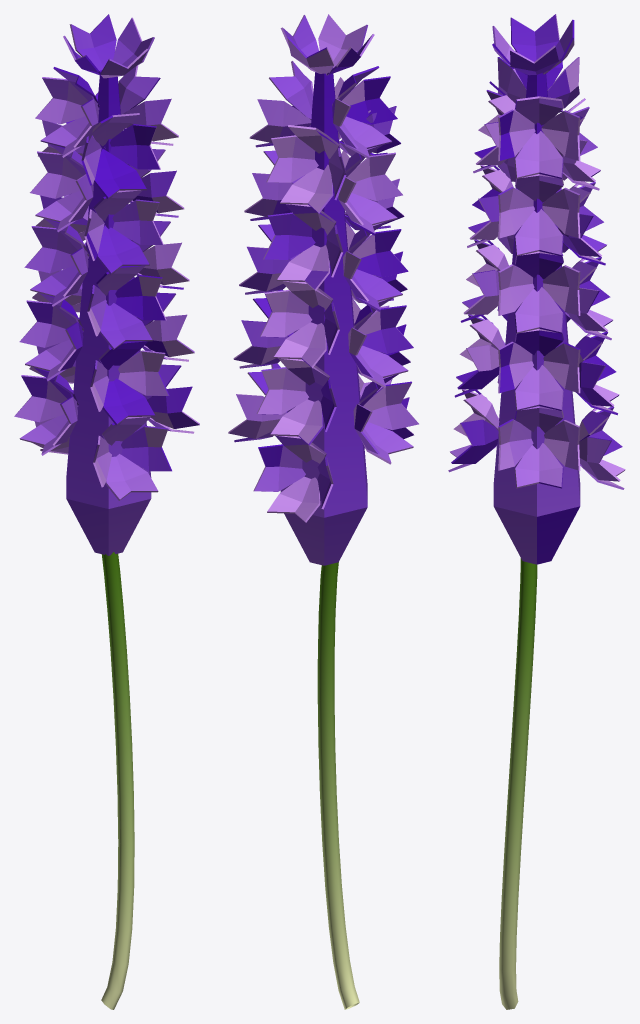
Rendered from Flower01B.fbx.
3 renders of one model, left to right at view 1: azimuth 30°, elevation 25°; view 2: azimuth 150°, elevation 25°; view 3: azimuth 270°, elevation 25°, orthographic. The views are drawn at different scales.
Visible parts, largest first — view 1: Flower01B_LOD0; view 2: Flower01B_LOD0; view 3: Flower01B_LOD0.
Boxes of the visible parts, bbox=[...] form: Flower01B_LOD0: bbox=[14, 14, 199, 1009]; Flower01B_LOD0: bbox=[228, 14, 418, 1009]; Flower01B_LOD0: bbox=[448, 14, 625, 1009].
Size of what is drawn, in the model's own units: 22.53 by 136 by 22.13.
